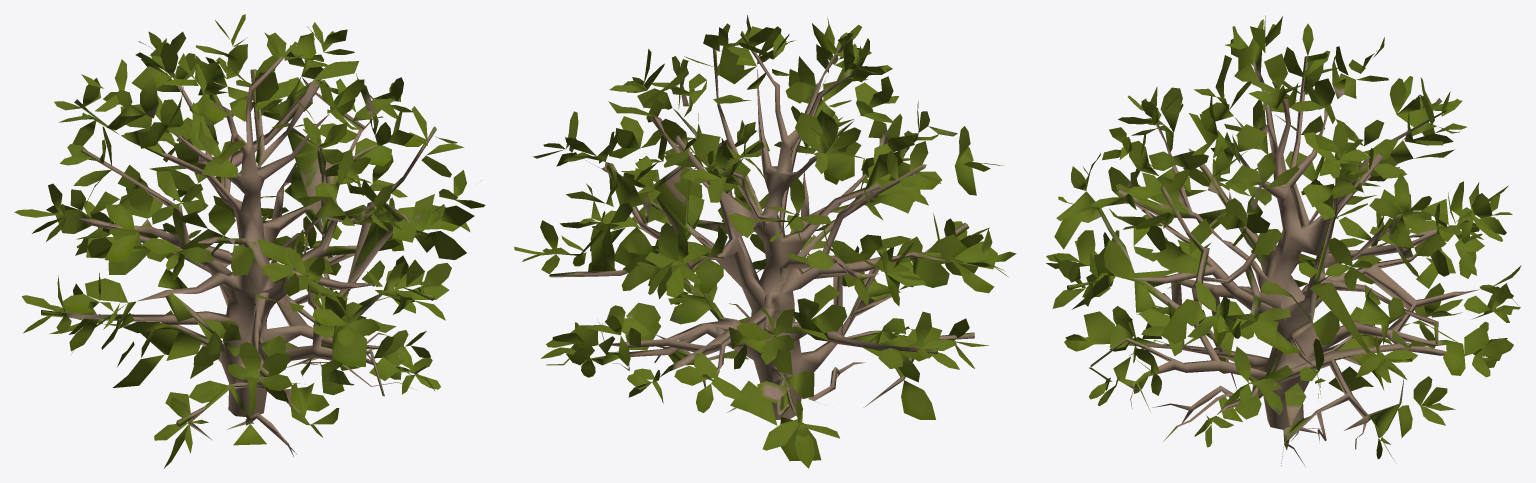
The picture shows the model from 3 angles, left to right: view 1: azimuth 30°, elevation 25°; view 2: azimuth 150°, elevation 25°; view 3: azimuth 270°, elevation 25°; orthographic projection.
Bounding box in the file's own units: 0.9956 × 0.9146 × 0.9995.
Materials: 1 (1 with a texture image).
